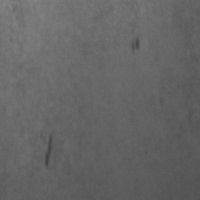inclusion: (40, 130, 58, 171), (129, 34, 144, 57)
